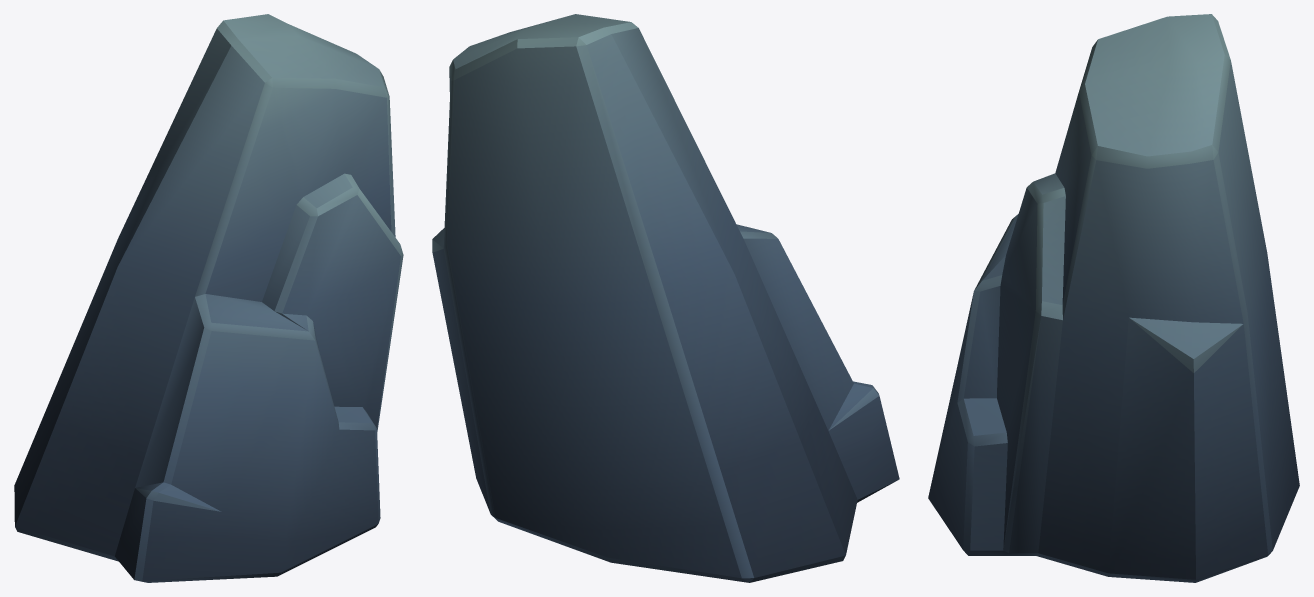
File: rock_big_2.glb
3 views of the same model, side by side, from view 1: azimuth 30°, elevation 25°; view 2: azimuth 150°, elevation 25°; view 3: azimuth 270°, elevation 25° (orthographic). The views are drawn at different scales.
Parts seen in each view (by area): view 1: rock_big_2; view 2: rock_big_2; view 3: rock_big_2.
Part boxes in pixels (x1,y1,x2,y2): rock_big_2: (14,14,403,582); rock_big_2: (432,14,899,582); rock_big_2: (928,14,1299,582).
Bounding box in the file's own units: 4.56 × 5.53 × 3.41.
Materials: 1 (1 with a texture image).
